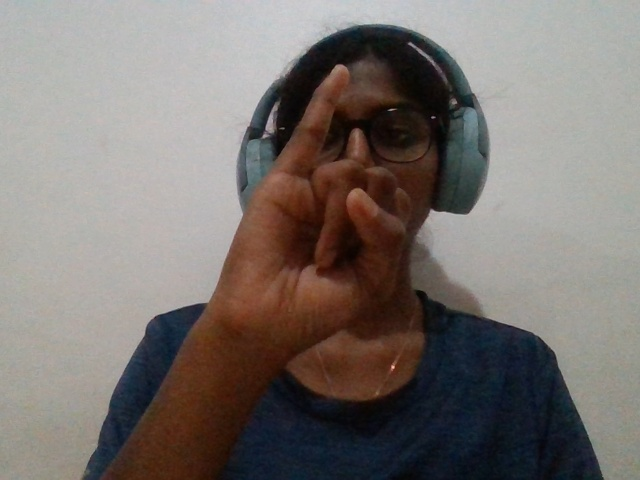I: (171, 58, 441, 401)
